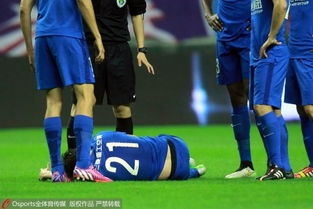falling: (48, 123, 206, 180)
